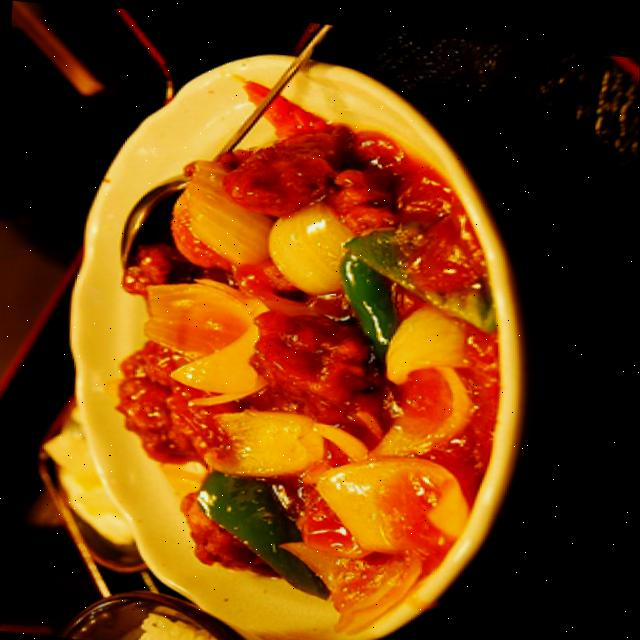猪肉菜式: (97, 64, 513, 640)
